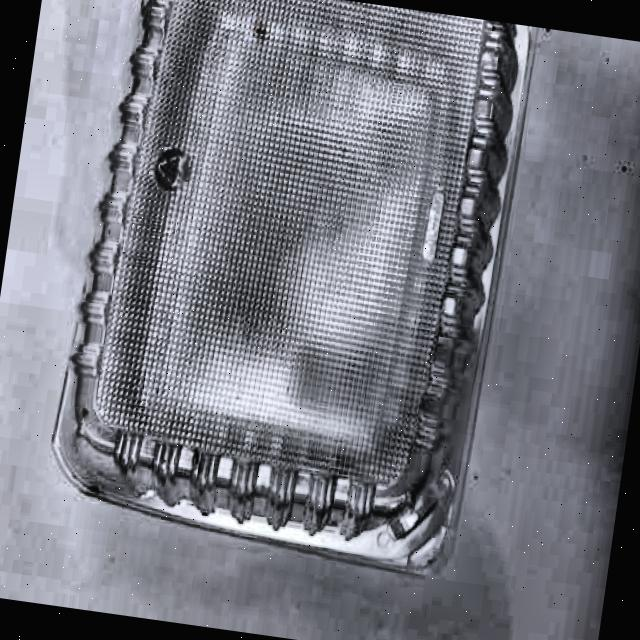plastic: (36, 0, 541, 584)
